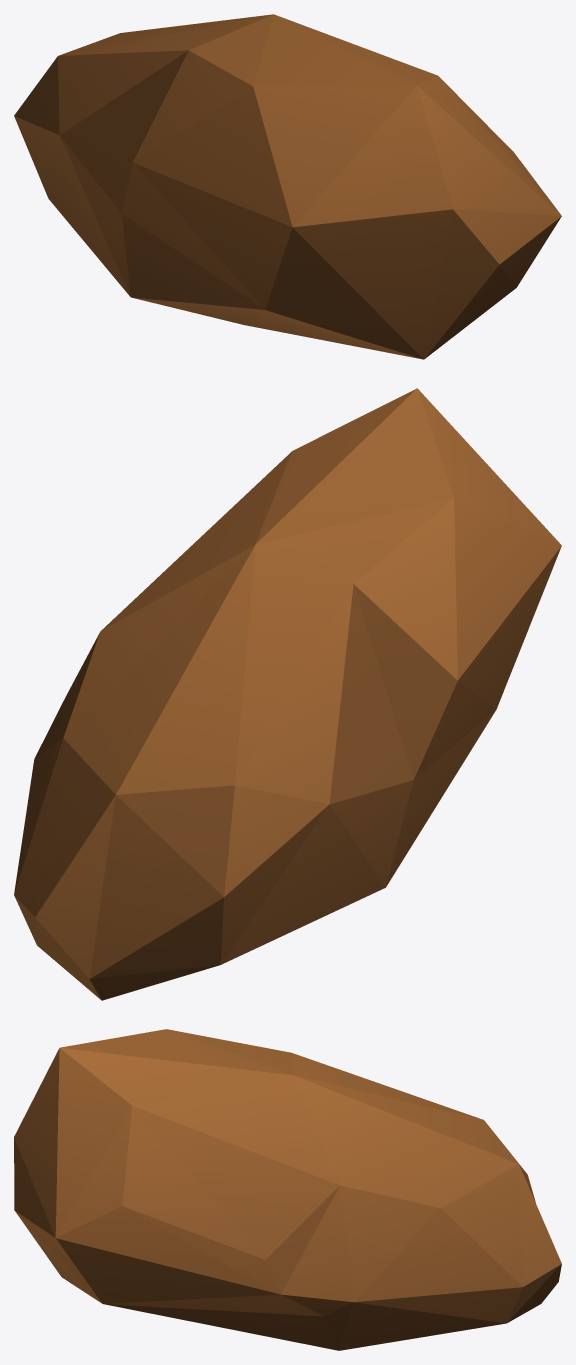
Rendered from Crop_Potato_02.obj.
The picture shows the model from 3 angles, top to bottom: view 1: azimuth 30°, elevation 25°; view 2: azimuth 150°, elevation 25°; view 3: azimuth 270°, elevation 25°; orthographic projection. The views are drawn at different scales.
Visible parts, largest first — view 1: Crop_Potato_02; view 2: Crop_Potato_02; view 3: Crop_Potato_02.
Boxes of the visible parts, x1,y1,x2,y2 form: Crop_Potato_02: (14,14,561,359); Crop_Potato_02: (14,388,561,1000); Crop_Potato_02: (14,1029,561,1350).
Bounding box in the file's own units: 0.1215 × 0.1241 × 0.2106.
1 material, 1 textured.
